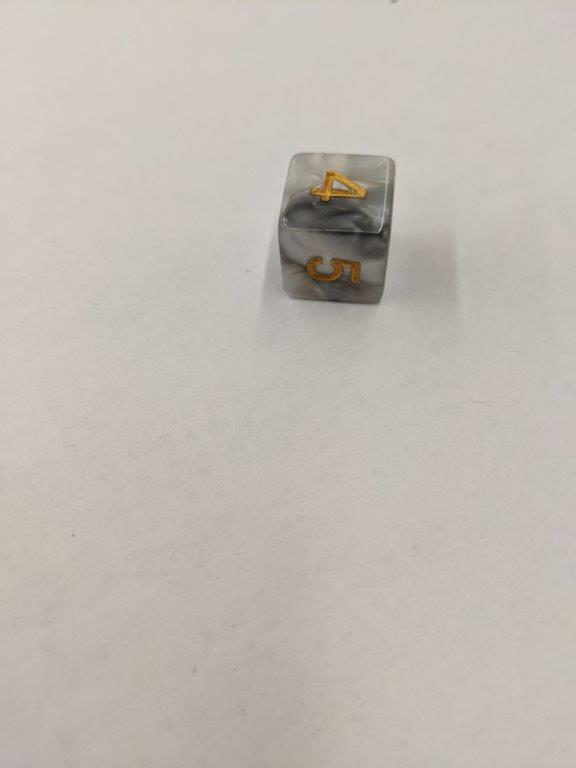d6-4: (279, 150, 394, 305)
